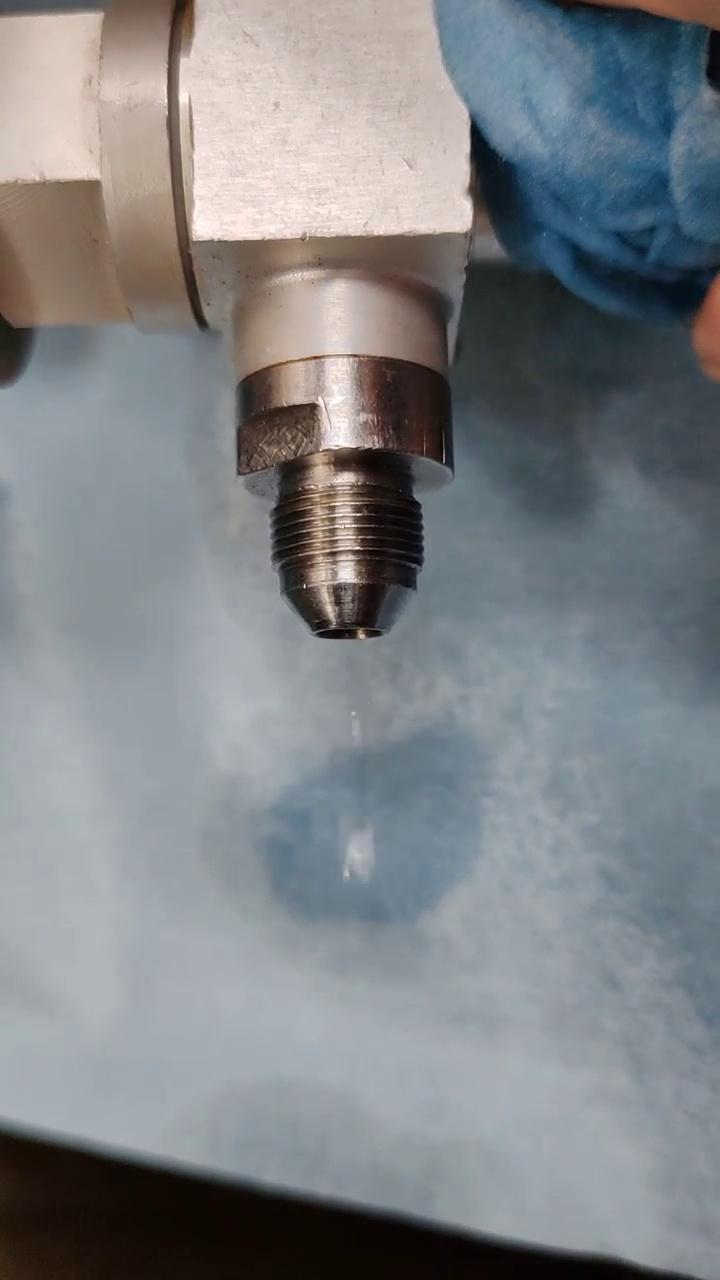water drop: (348, 624, 371, 768), (334, 822, 382, 885)
